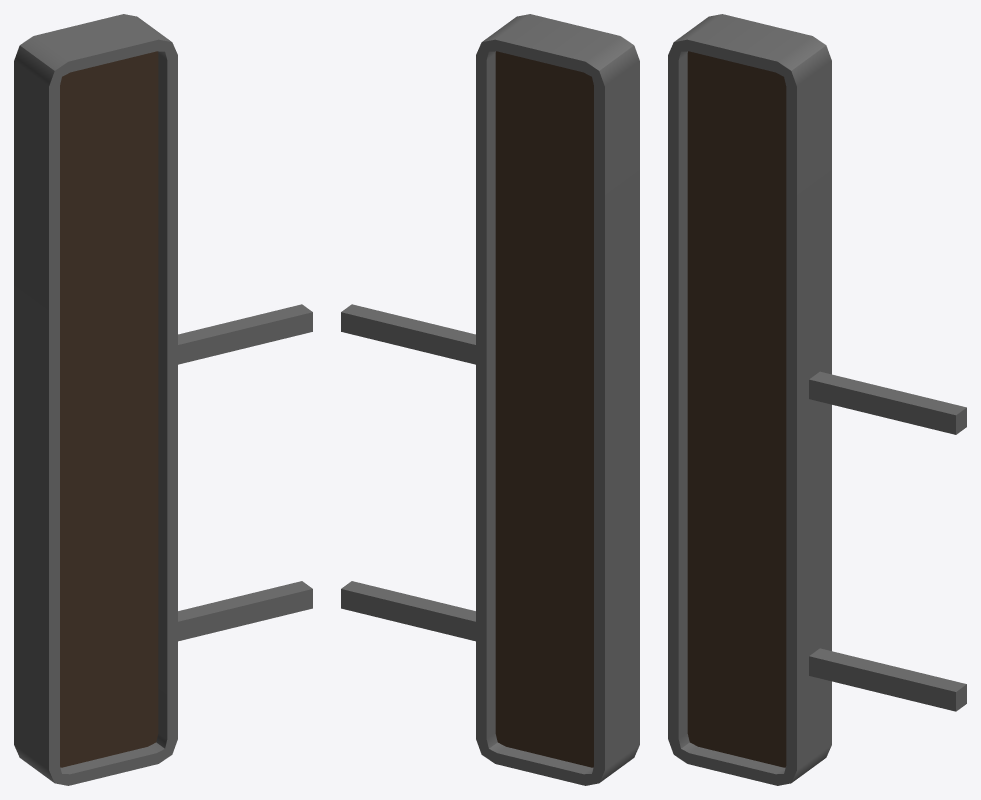
The model's file is Jap_Sign_1.fbx.
3 renders of one model, left to right at view 1: azimuth 30°, elevation 25°; view 2: azimuth 150°, elevation 25°; view 3: azimuth 330°, elevation 25°, orthographic.
Visible parts, largest first — view 1: polySurface232; view 2: polySurface232; view 3: polySurface232.
Part boxes in pixels (x1,y1,x2,y2): polySurface232: (14,14,312,785); polySurface232: (341,14,639,785); polySurface232: (668,14,966,785).
Size of the model in its own units: 1.6 by 4.02 by 0.3526.
